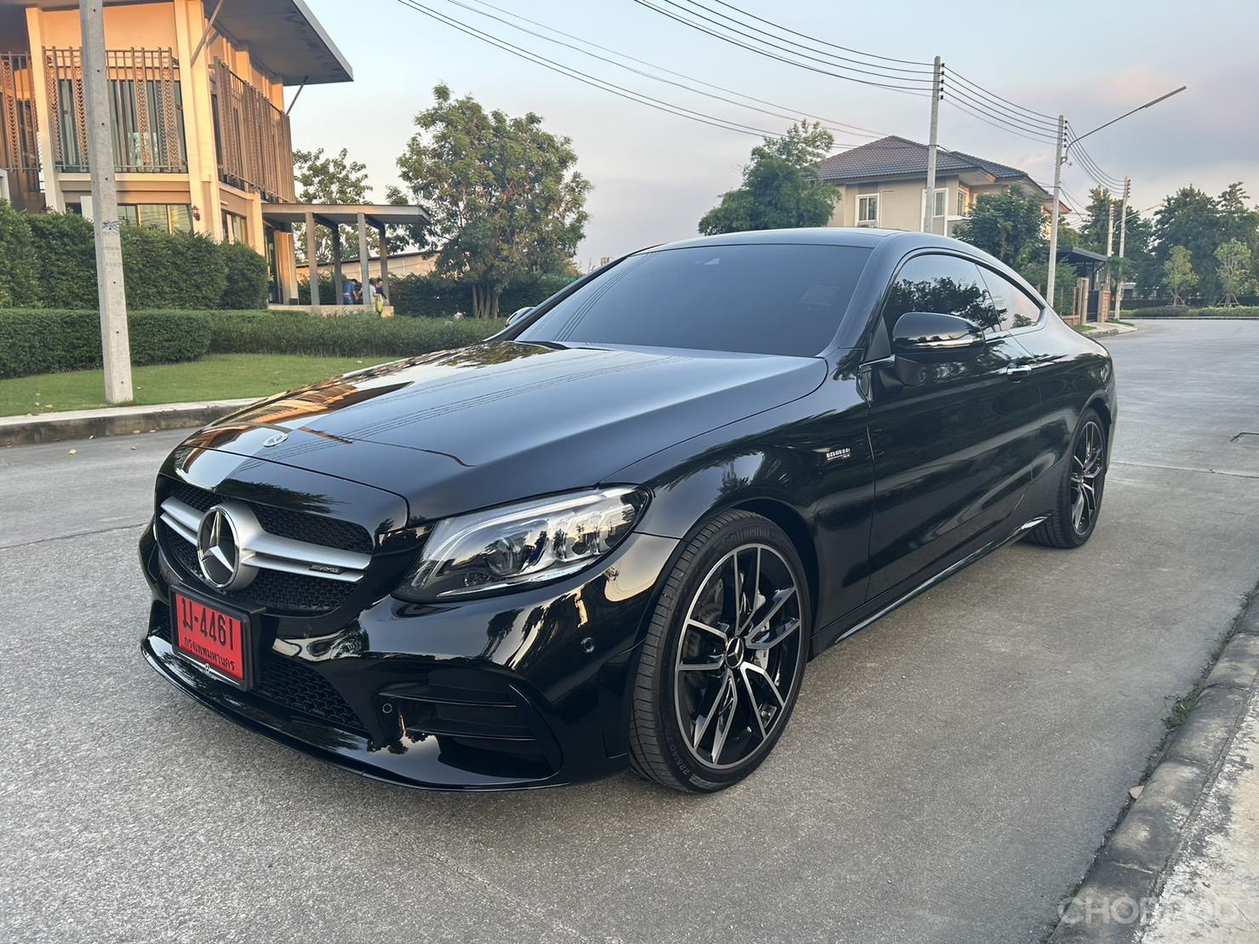license-plate: (168, 581, 253, 693)
